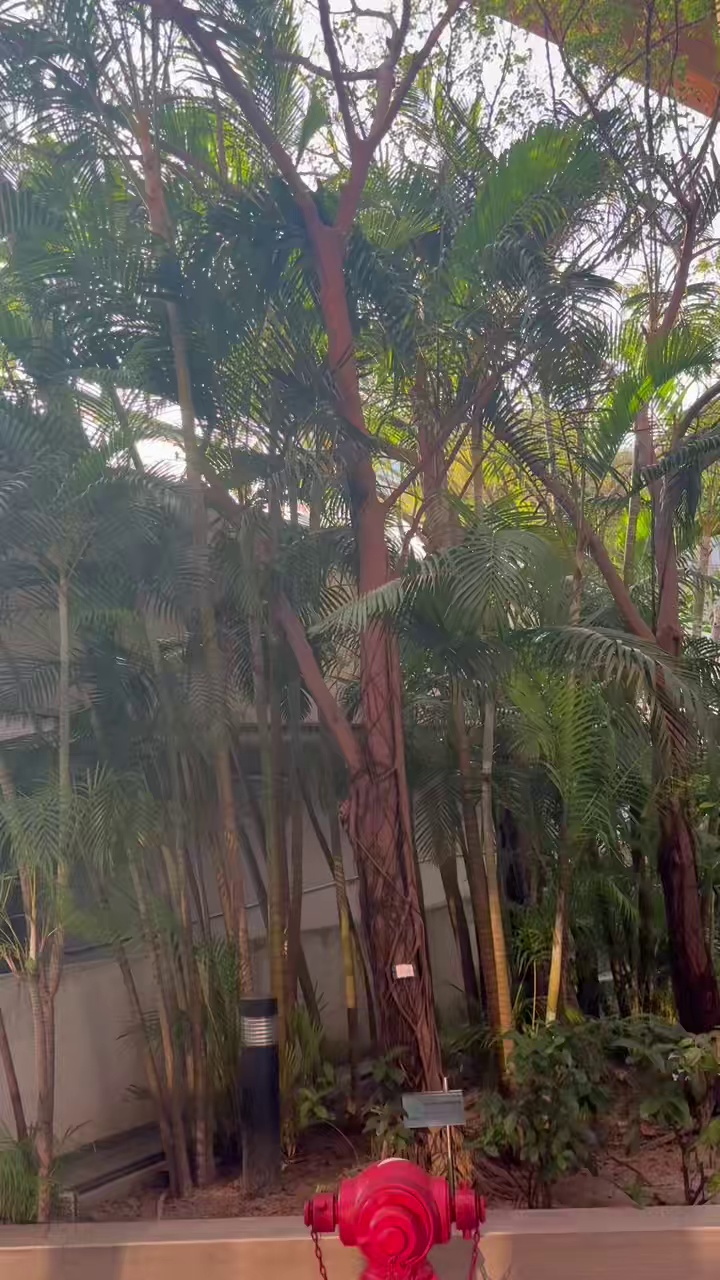Ficus benjamina: (151, 0, 460, 1090)
